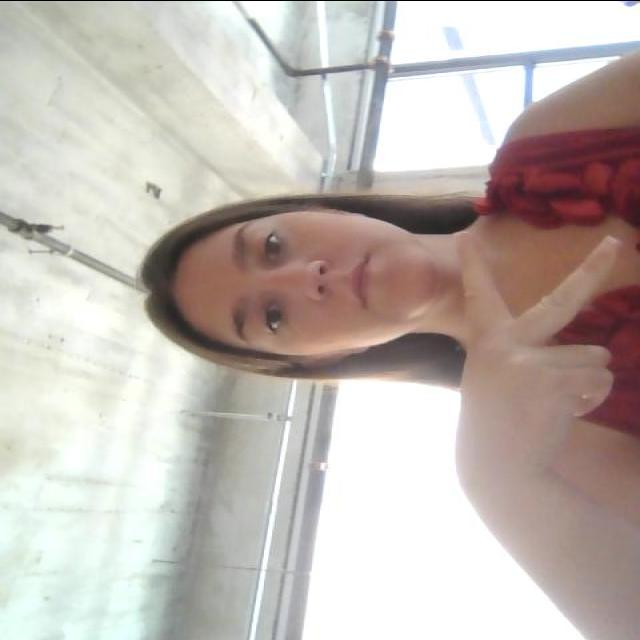Scissors: (424, 123, 640, 431)
